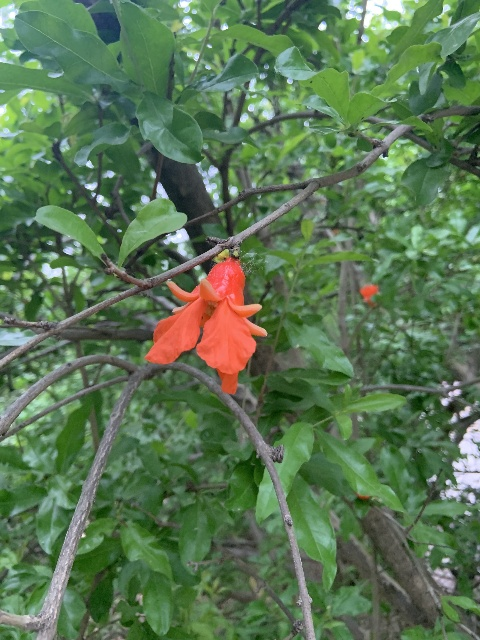flower: (144, 257, 268, 394), (358, 284, 378, 306)
